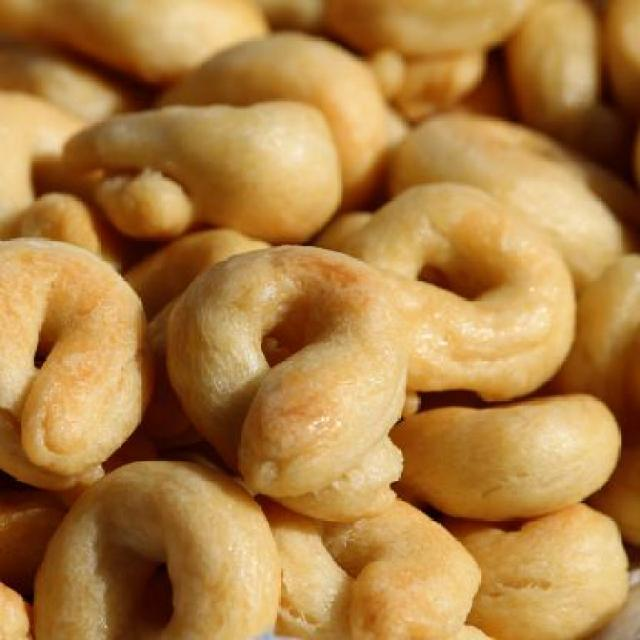Taralli: (6, 34, 632, 640)
